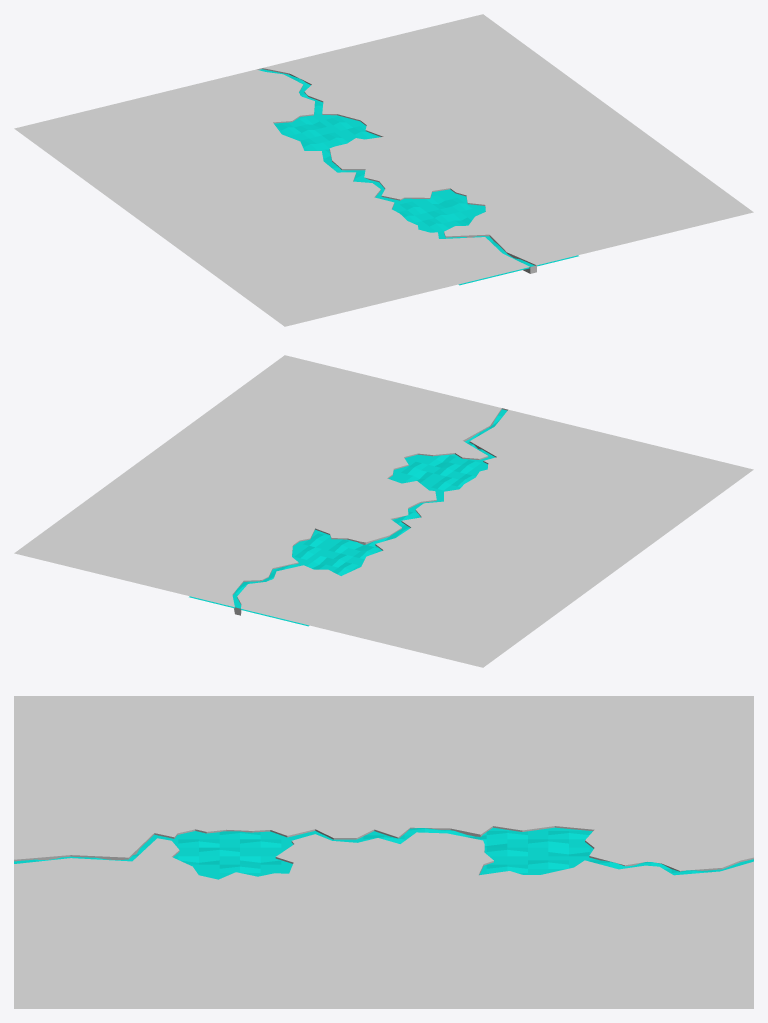
The model's file is Board.fbx.
The picture shows the model from 3 angles, top to bottom: view 1: azimuth 30°, elevation 25°; view 2: azimuth 150°, elevation 25°; view 3: azimuth 270°, elevation 25°; orthographic projection. The views are drawn at different scales.
Visible parts, largest first — view 1: Plane; view 2: Plane; view 3: Plane.
Part boxes in pixels (bbox=[...]): Plane: bbox=[14, 14, 753, 326]; Plane: bbox=[14, 355, 753, 667]; Plane: bbox=[14, 696, 753, 1008].
Bounding box in the file's own units: 200 × 3.02 × 200.
